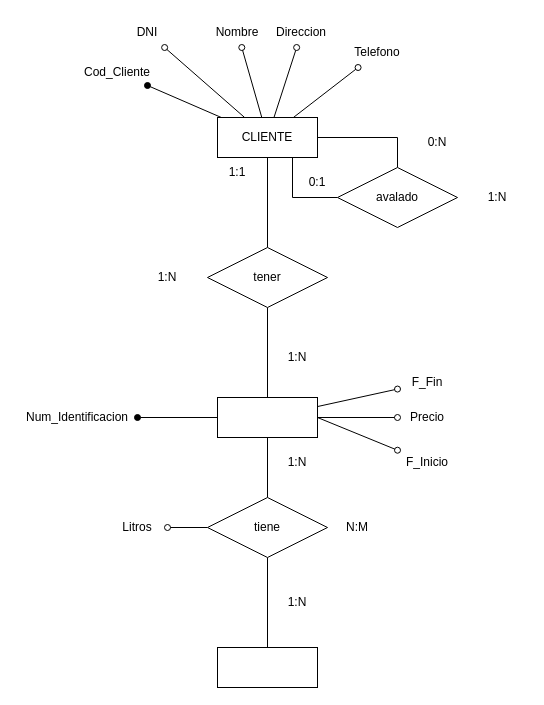
This 544x705 diagram has some shape labels left out. The shapes that lost their labels are listed below. From the top down, each one's centre as x and y in pixels, then its label:
the point at 267,417: RESERVA
the point at 267,667: COCHE
